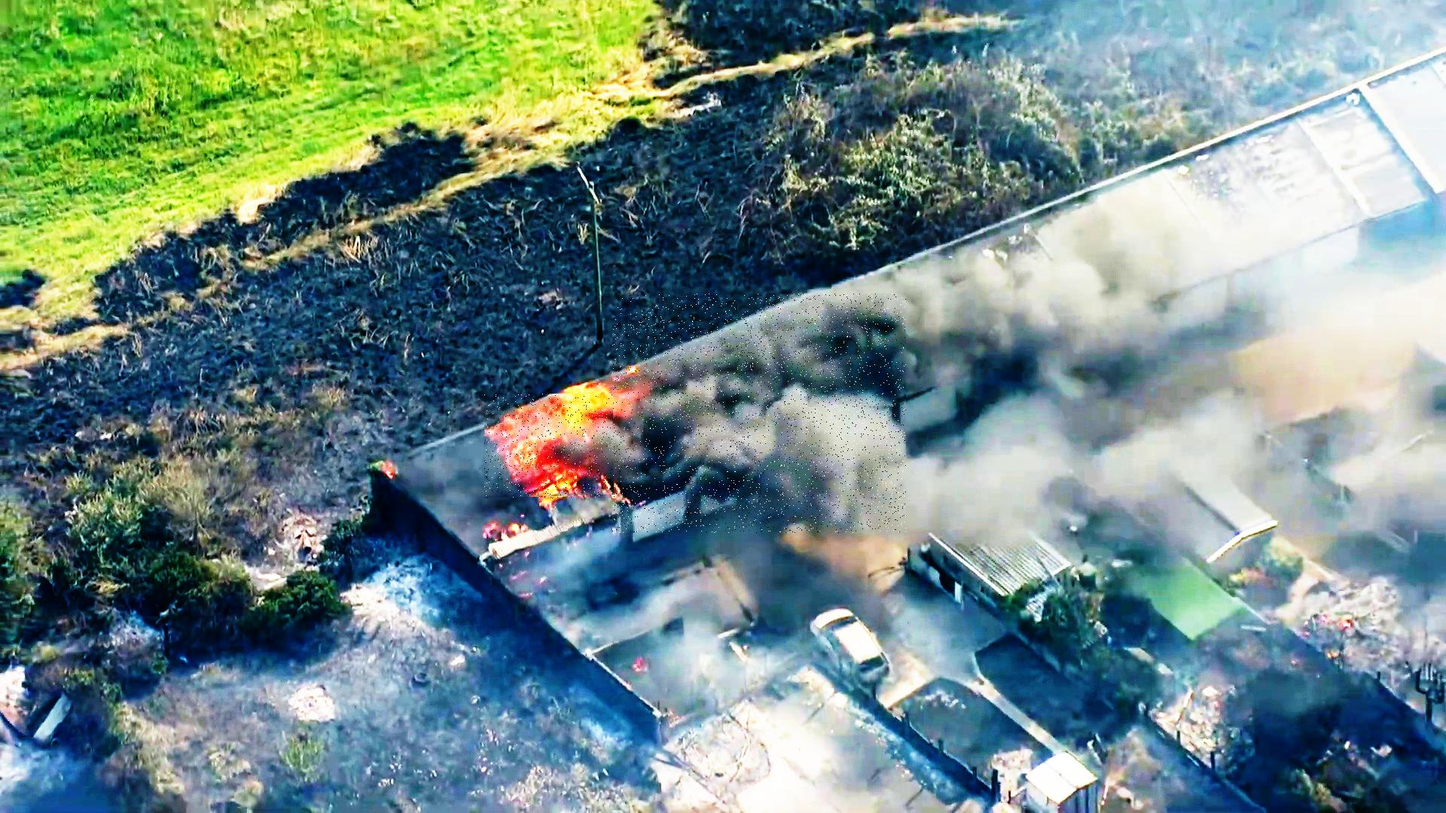fire: (484, 394, 629, 499)
smoke: (612, 294, 906, 533)
